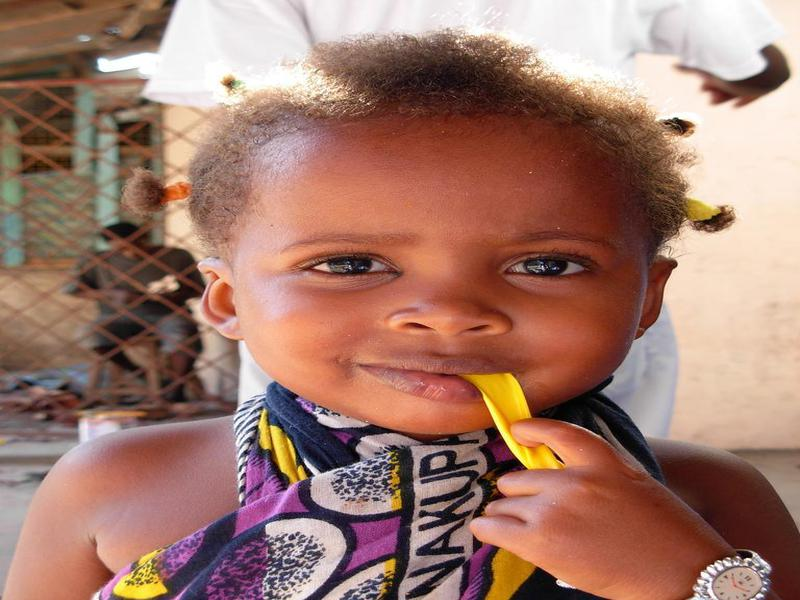person: (29, 24, 791, 600)
